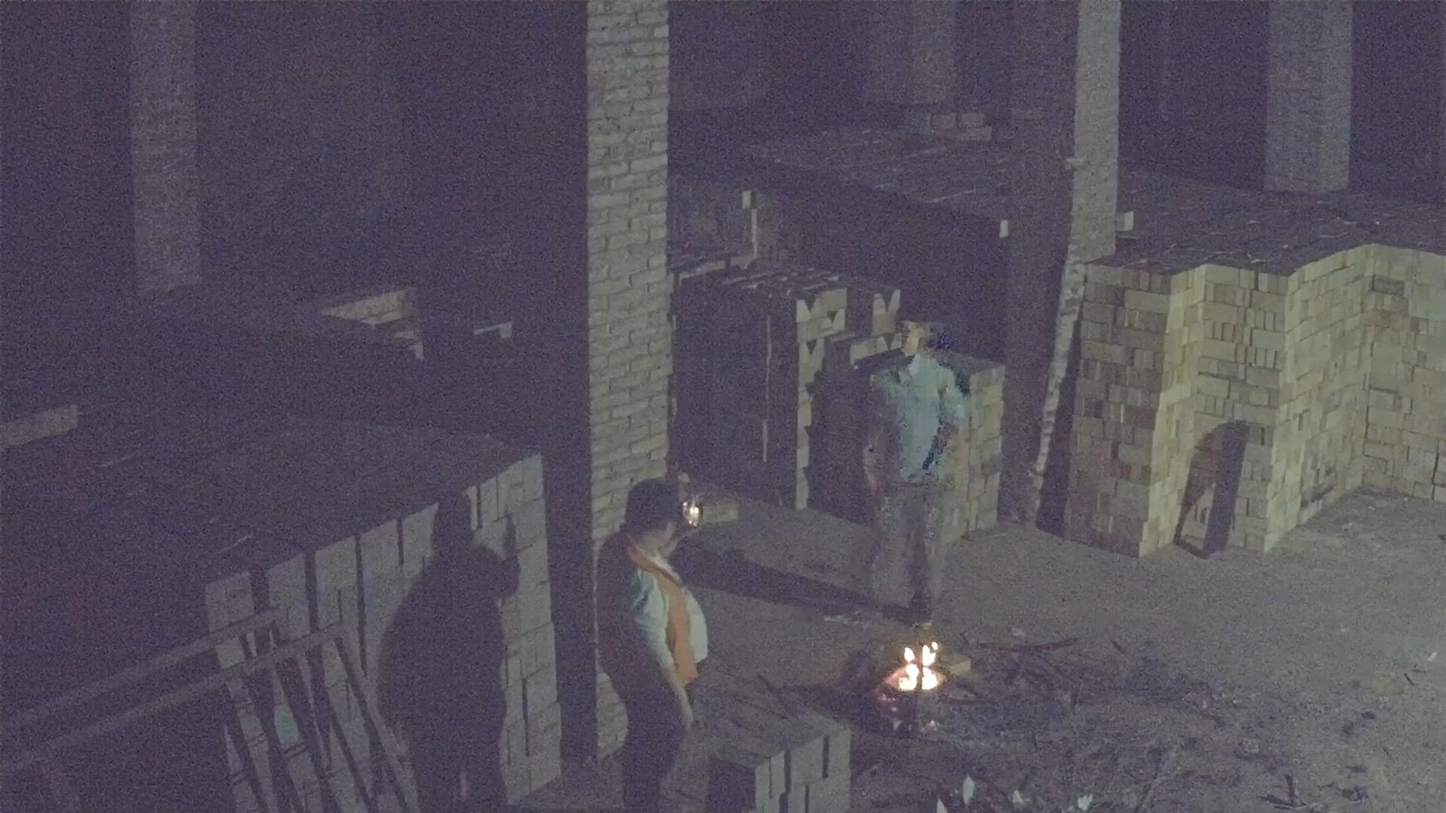fire: (885, 641, 944, 693)
